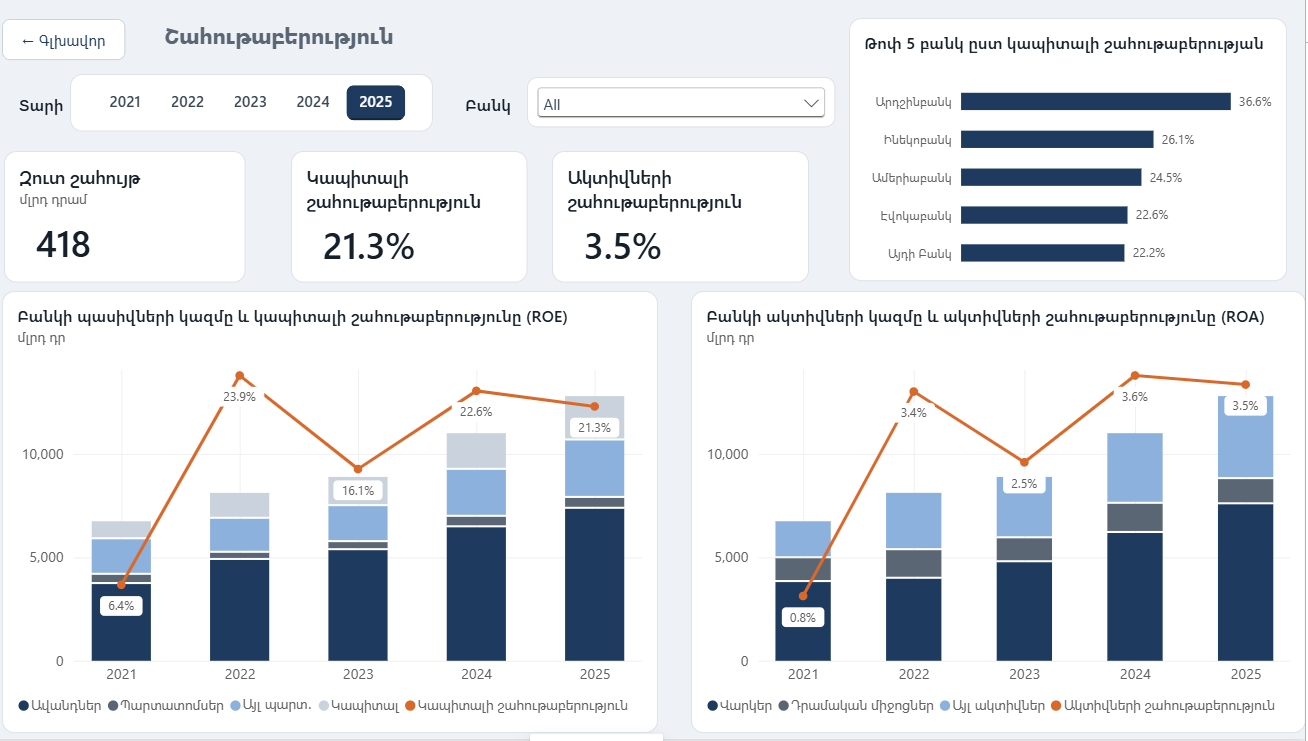

The page's visual inventory and layout, read from the dashboard file:
{"tool":"powerbi","page":{"name":"Շահութաբերություն","canvas":[1280,720],"ordinal":3},"visuals":[{"type":"actionButton","box":[12.7,19.1,120,40],"z":0},{"type":"lineStackedColumnComboChart","title":"Բանկի պասիվների կազմը և կապիտալի շահութաբերությունը (ROE)","fields":{"Category":["Dim_Year.Year"],"Y":["Sum(Fact_Bank.due_to_customers)","Sum(Fact_Bank.debt_securities_issued)","Sum(Fact_Bank.other_liabilities)","Sum(Fact_Bank.total_equity)"],"Y2":["_Measures.ROE%"]},"box":[12.6,284,638.1,411.4],"z":1000},{"type":"lineStackedColumnComboChart","title":"Բանկի ակտիվների կազմը և ակտիվների շահութաբերությունը (ROA)","fields":{"Category":["Dim_Year.Year"],"Y":["Sum(Fact_Bank.loans_to_customers_net)","Sum(Fact_Bank.cash_and_equivalents)","Sum(Fact_Bank.other_assets)"],"Y2":["_Measures.ROA%"]},"box":[682.8,284,579.7,411.4],"z":2000},{"type":"advancedSlicerVisual","fields":{"Values":["Dim_Year.Year"]},"box":[78.8,72.5,352.5,56.2],"z":3000},{"type":"textbox","title":"Տարի","box":[12.5,80,76.2,41.2],"z":4000},{"type":"textbox","box":[156.4,9.1,275,58.8],"z":5000},{"type":"cardVisual","title":"Զուտ շահույթ","fields":{"Data":["_Measures.KPI_NetProfit"]},"box":[15,147.5,235,127.5],"z":6000},{"type":"cardVisual","title":"Կապիտալի շահութաբերություն","fields":{"Data":["_Measures.ROE%"]},"box":[293.8,147.5,230,127.5],"z":7000},{"type":"cardVisual","title":"Ակտիվների շահութաբերություն","fields":{"Data":["_Measures.ROA%"]},"box":[547.5,147.5,250,127.5],"z":8000},{"type":"clusteredBarChart","title":"Թոփ 5 բանկ ըստ կապիտալի շահութաբերության","fields":{"Category":["Dim_Bank.BankName"],"Y":["_Measures.ROE%"]},"box":[836.2,18.8,426.2,256.2],"z":9000},{"type":"slicer","fields":{"Values":["Dim_Bank.BankName"]},"box":[523.8,76.2,300,48.8],"z":10000},{"type":"textbox","title":"Բանկ","box":[447.5,80,76.2,41.2],"z":11000},{"type":"shape","box":[836.2,18.8,426.2,256.2],"z":12000}]}

Visuals, with their boxes in screenshot pixels (x1, y1, x2, y2), scaled from the page's 1280x720 canvas onto the 1308x741 screenshot:
actionButton: {"left": 13, "top": 20, "right": 136, "bottom": 61}
"Բանկի պասիվների կազմը և կապիտալի շահութաբերությունը (ROE)" lineStackedColumnComboChart: {"left": 13, "top": 292, "right": 665, "bottom": 716}
"Բանկի ակտիվների կազմը և ակտիվների շահութաբերությունը (ROA)" lineStackedColumnComboChart: {"left": 698, "top": 292, "right": 1290, "bottom": 716}
advancedSlicerVisual - Dim_Year.Year: {"left": 81, "top": 75, "right": 441, "bottom": 132}
"Տարի" textbox: {"left": 13, "top": 82, "right": 91, "bottom": 125}
textbox: {"left": 160, "top": 9, "right": 441, "bottom": 70}
"Զուտ շահույթ" cardVisual: {"left": 15, "top": 152, "right": 255, "bottom": 283}
"Կապիտալի շահութաբերություն" cardVisual: {"left": 300, "top": 152, "right": 535, "bottom": 283}
"Ակտիվների շահութաբերություն" cardVisual: {"left": 559, "top": 152, "right": 815, "bottom": 283}
"Թոփ 5 բանկ ըստ կապիտալի շահութաբերության" clusteredBarChart: {"left": 854, "top": 19, "right": 1290, "bottom": 283}
slicer - Dim_Bank.BankName: {"left": 535, "top": 78, "right": 842, "bottom": 129}
"Բանկ" textbox: {"left": 457, "top": 82, "right": 535, "bottom": 125}
shape: {"left": 854, "top": 19, "right": 1290, "bottom": 283}
